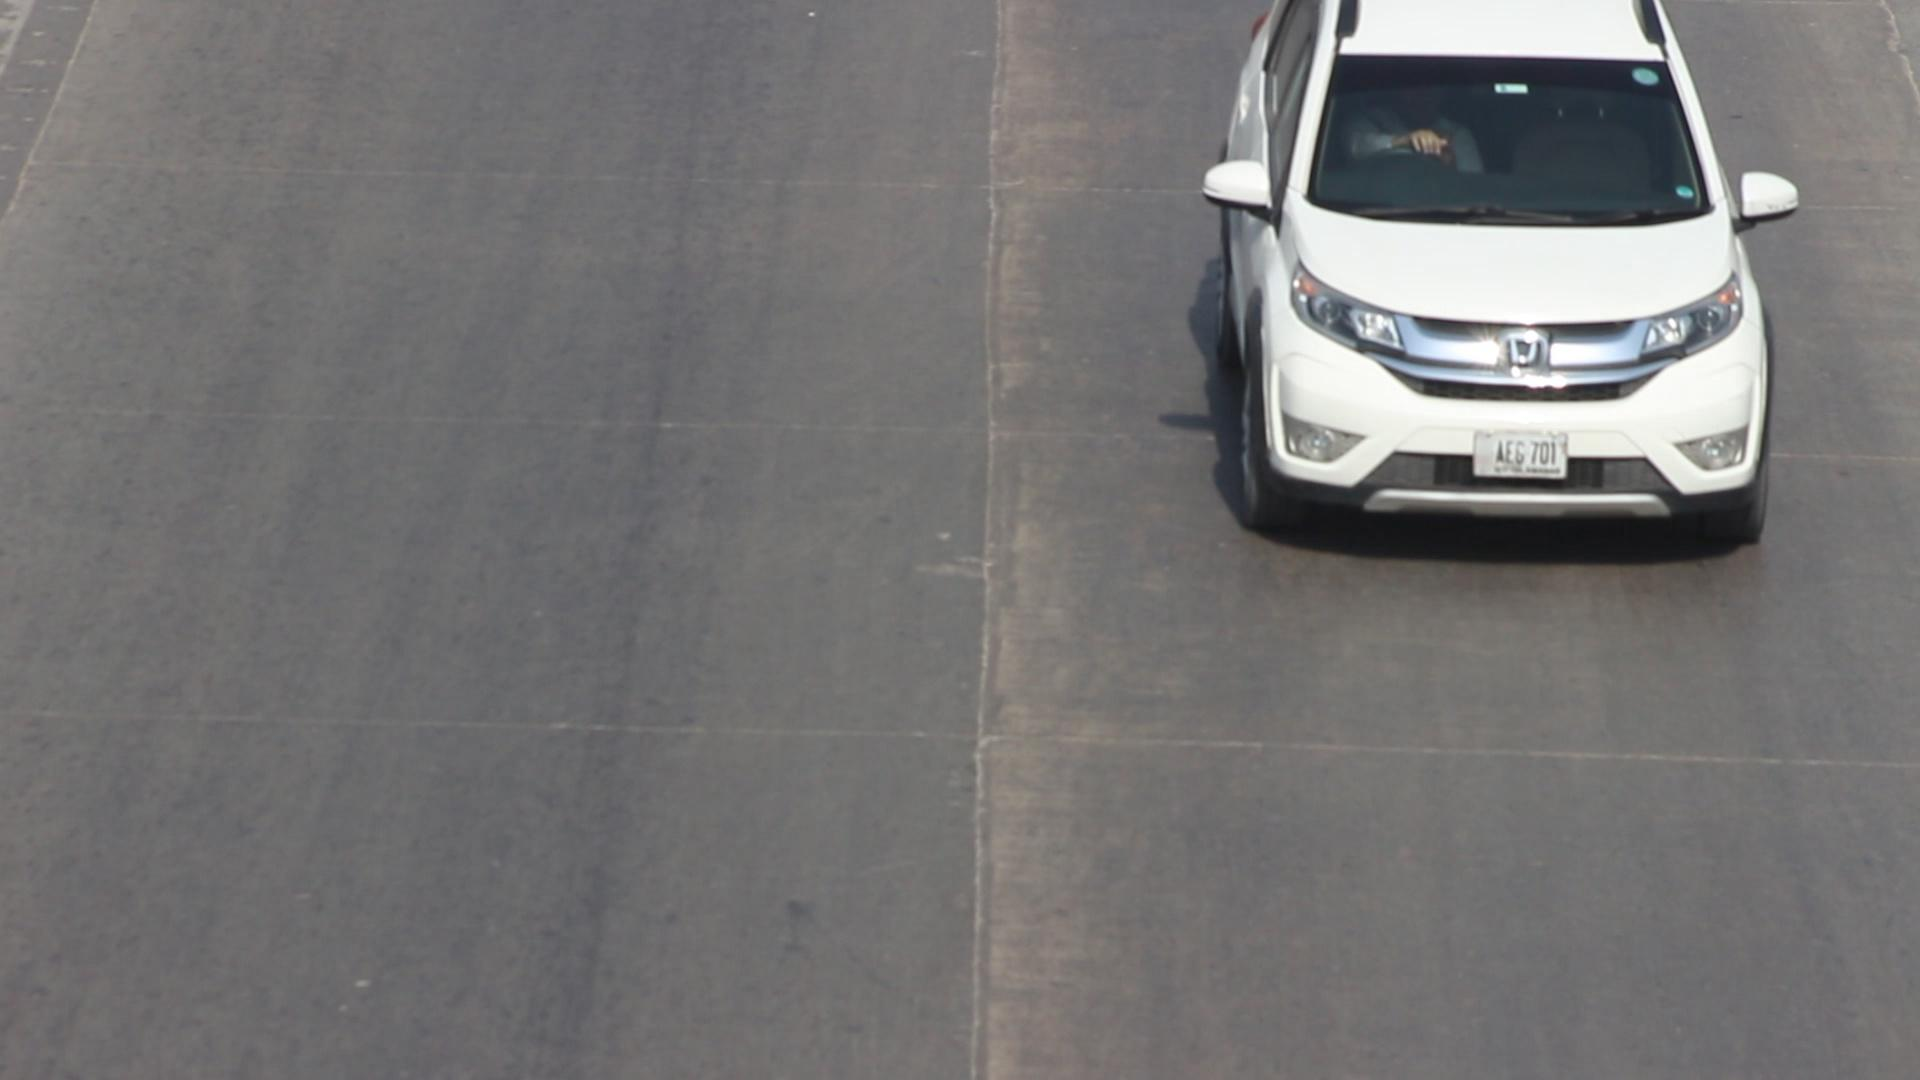windshield: (1291, 40, 1730, 236)
